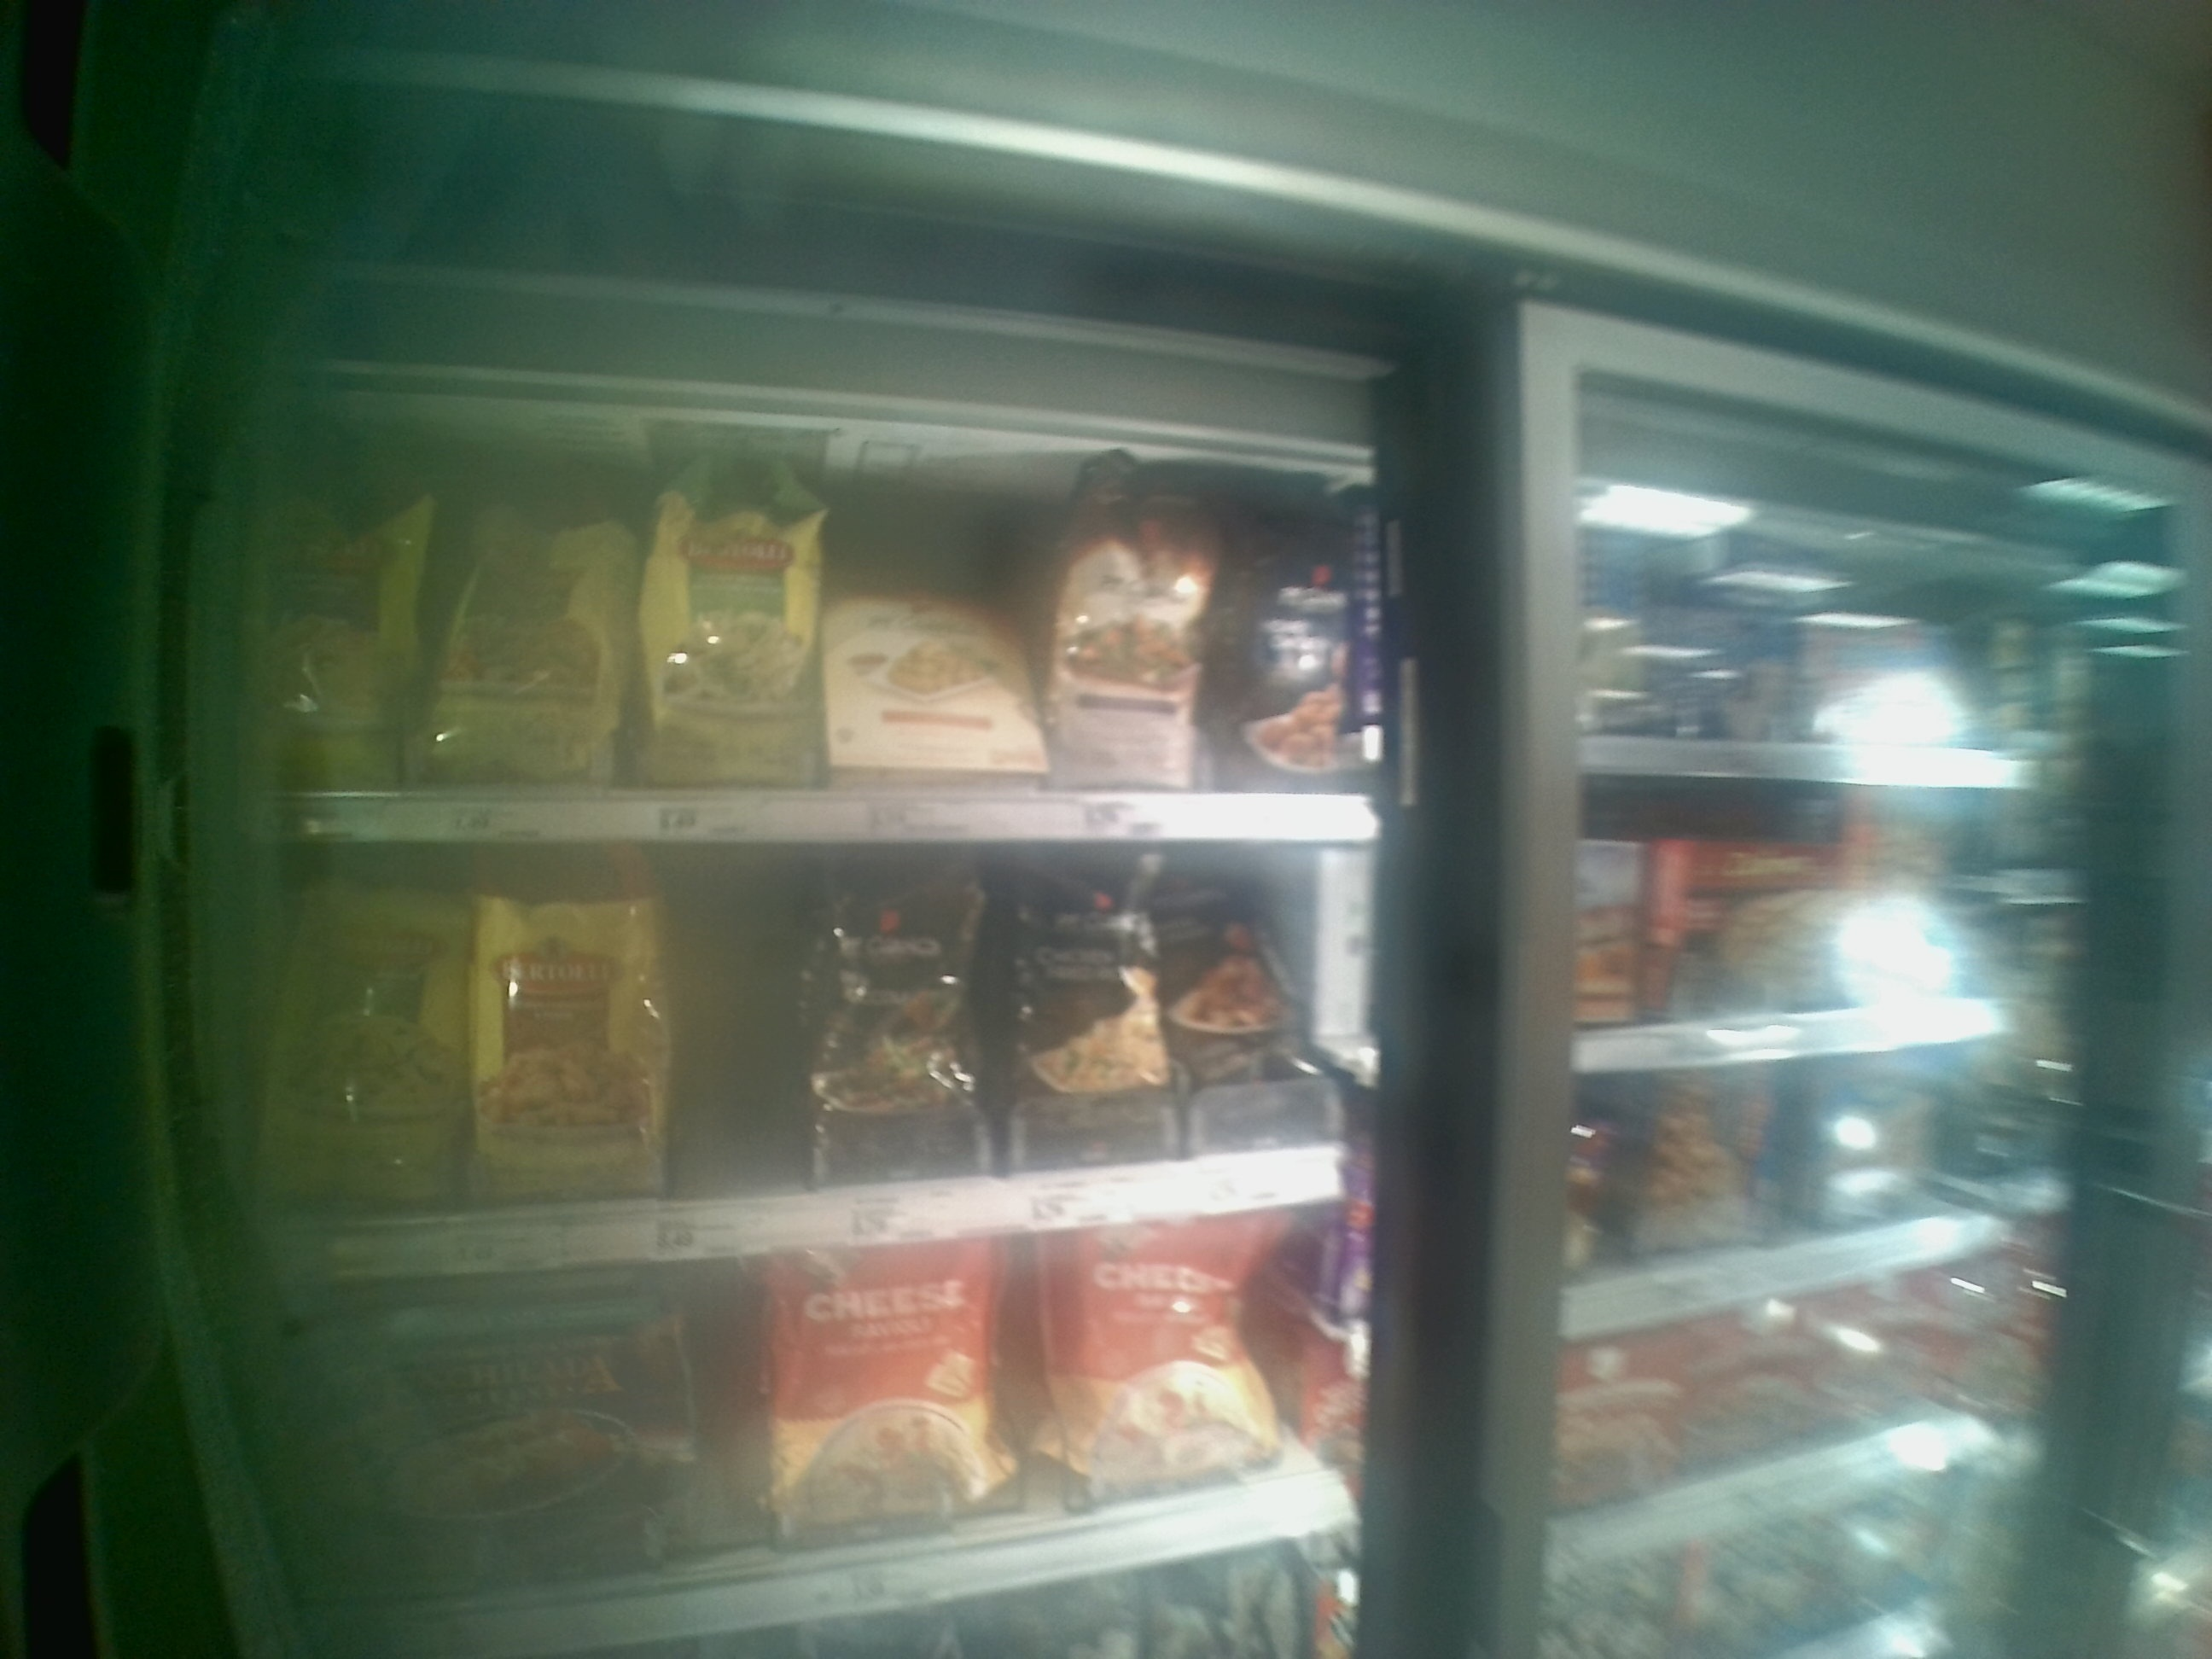shelf: (280, 404, 1371, 840), (256, 840, 1372, 1229)
